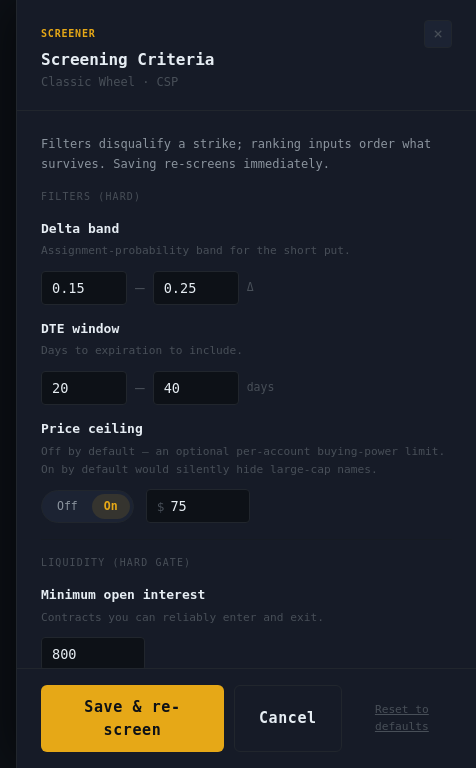
Test: restores every field to its shipped default when Reset to defaults is clicked
Click the button "Reset to defaults" at (402, 718), box [352,685,452,752]
(page scrolled)
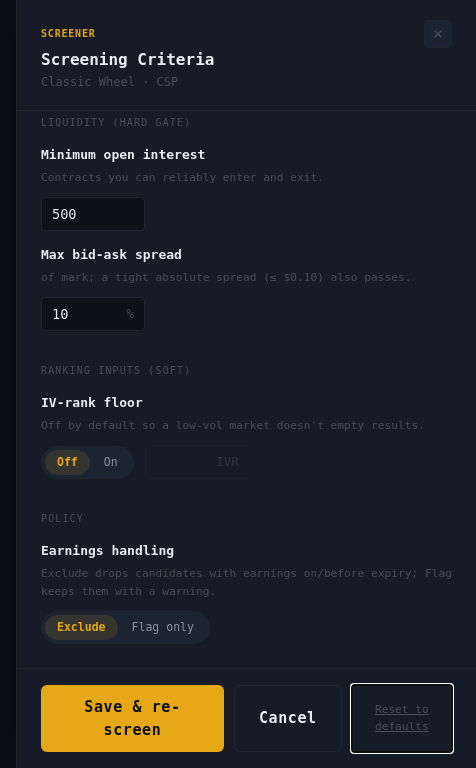
Expected: the field named "Minimum open interest" holds "500", [52,204,134,224]
Expected: the field named "Max bid-ask spread" holds "10", [52,304,120,324]
